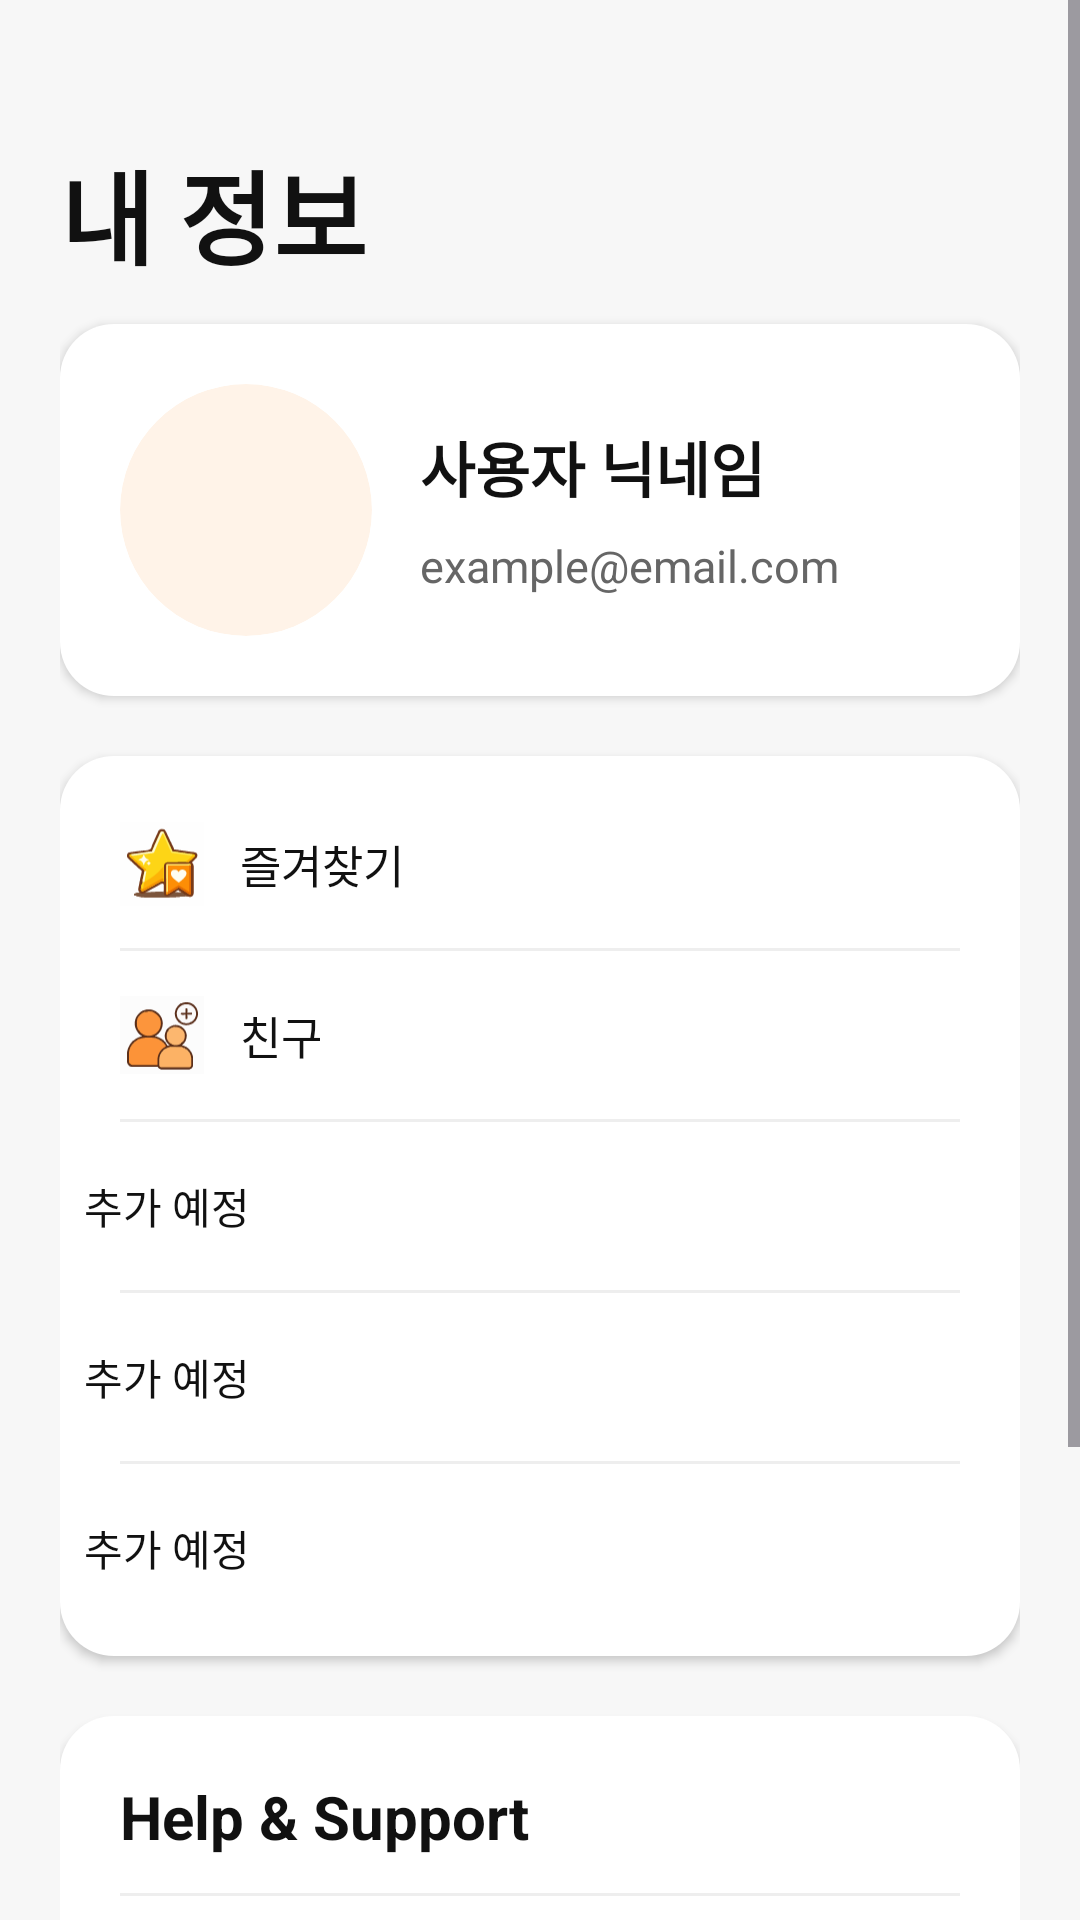

Locate icon controls on the screen. Image size 1080px×1920px, boxes as (x1, y1, x2, y2).
favorite: (127, 828, 198, 898)
friends add: (127, 1002, 198, 1070)
